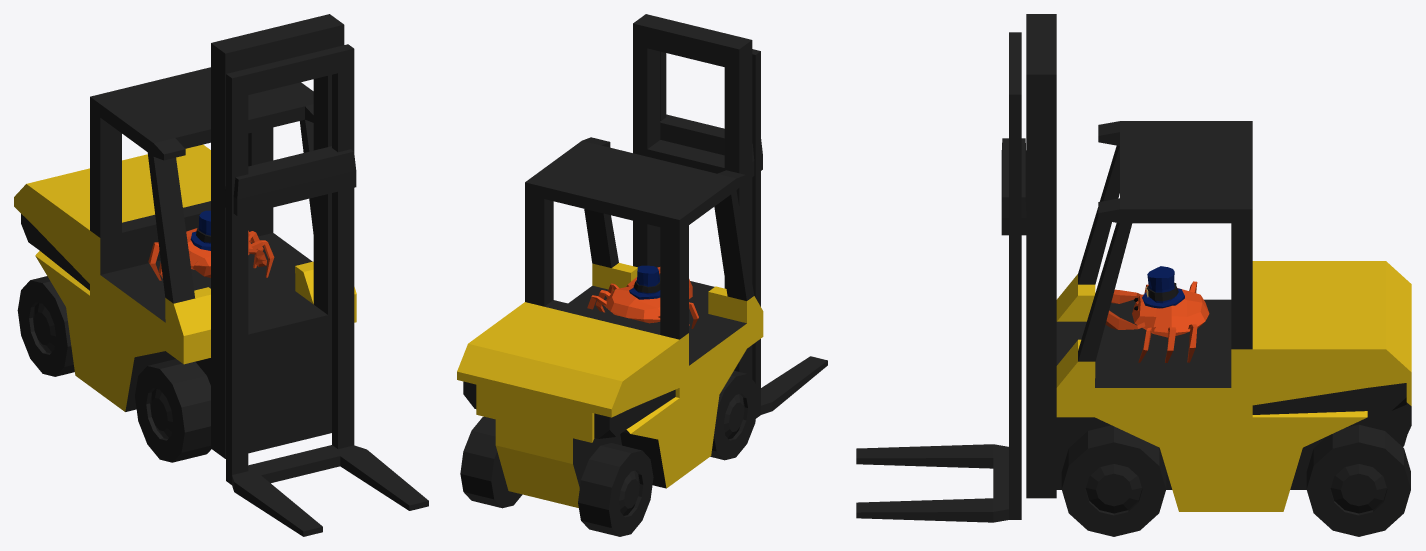
The model's file is forklift.glb.
The picture shows the model from 3 angles, left to right: view 1: azimuth 30°, elevation 25°; view 2: azimuth 150°, elevation 25°; view 3: azimuth 270°, elevation 25°; orthographic projection. The views are drawn at different scales.
Visible parts, largest first — view 1: forklift, forklift_fork, crab, Cylinder; view 2: forklift, forklift_fork, crab, Cylinder; view 3: forklift, forklift_fork, crab, Cylinder.
Part boxes in pixels (x1=…): forklift: x1=14, y1=14, x2=356, y2=462; forklift_fork: x1=226, y1=44, x2=428, y2=536; crab: x1=148, y1=228, x2=274, y2=280; Cylinder: x1=190, y1=210, x2=210, y2=250; forklift: x1=457, y1=14, x2=763, y2=536; forklift_fork: x1=660, y1=49, x2=827, y2=418; crab: x1=587, y1=267, x2=698, y2=328; Cylinder: x1=629, y1=265, x2=660, y2=299; forklift: x1=1001, y1=14, x2=1411, y2=536; forklift_fork: x1=856, y1=32, x2=1021, y2=522; crab: x1=1105, y1=281, x2=1209, y2=362; Cylinder: x1=1142, y1=266, x2=1184, y2=308.
Bounding box in the file's own units: 4 × 9.51 × 10.63.
